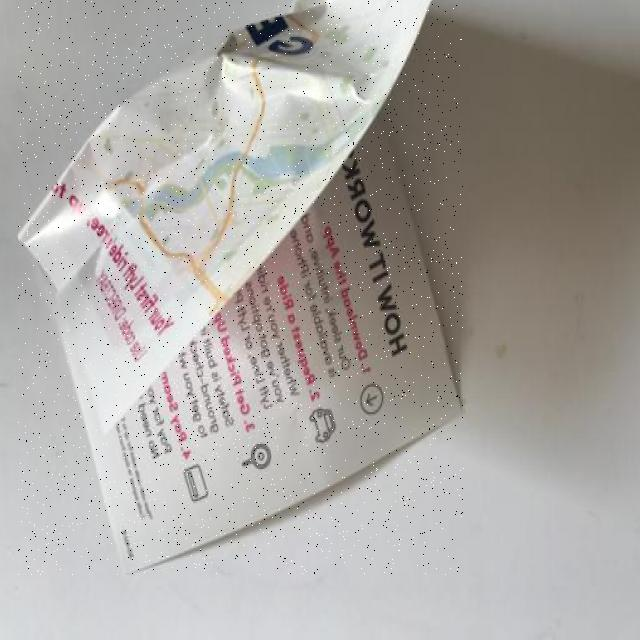paper: (19, 0, 464, 574)
